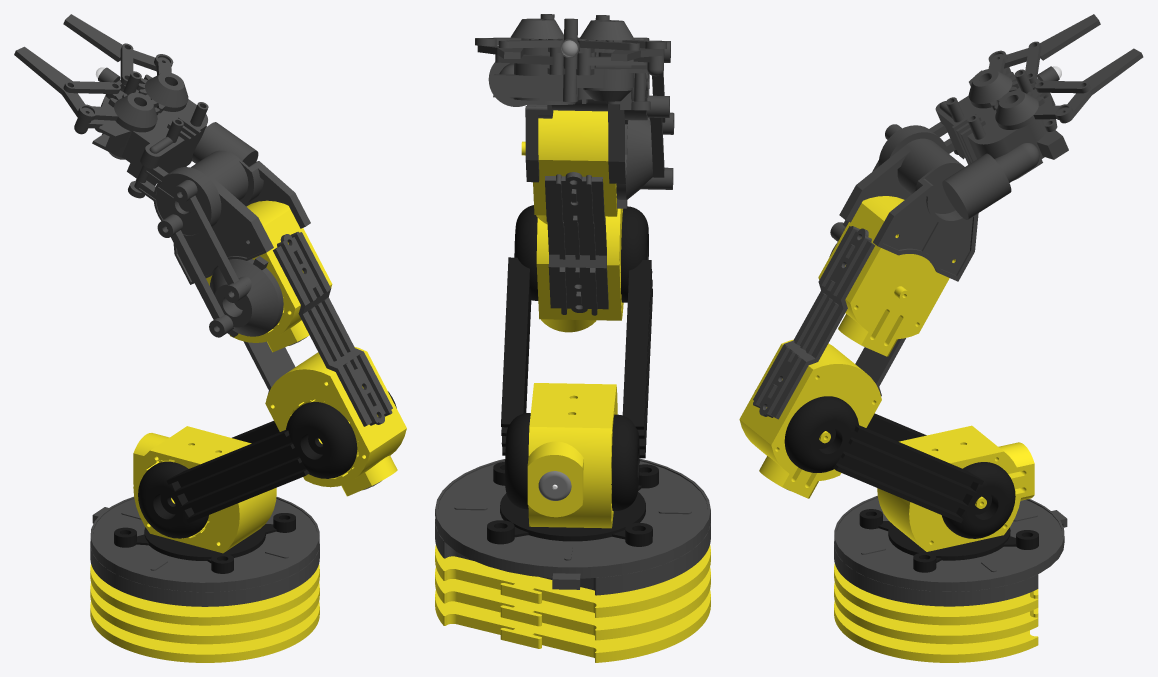
The model's file is robotic-arm-1.dae.
The picture shows the model from 3 angles, left to right: view 1: azimuth 30°, elevation 25°; view 2: azimuth 150°, elevation 25°; view 3: azimuth 270°, elevation 25°; orthographic projection. The views are drawn at different scales.
Parts seen in each view (by area): view 1: motor (×3), Pieza1, base motor 4 (×3), base motor 2, Pieza2 (×2), Pieza final, pieza 6, Pieza4 (×2), Pieza3, base motor 3, Pieza 7, base motor Z (+5 smaller); view 2: motor (×3), base motor 4 (×3), Pieza1 (×2), base motor 2, Pieza2, Pieza final, base motor Z, pieza 6, base motor 3, Pieza4 (×2), Pieza3, Pieza14 (×2) (+8 smaller); view 3: motor (×3), Pieza1 (×2), base motor 4 (×3), base motor 2, pieza 6, Pieza final, Pieza2 (×2), base motor Z, base motor 3, Simetr_aPieza11, Pieza11, Pieza13 (+3 smaller).
Part boxes in pixels (left/top/right/bottom): motor (×3): left=133, top=200, right=406, bottom=553; Pieza1: left=138, top=402, right=357, bottom=538; base motor 4 (×3): left=90, top=564, right=319, bottom=662; base motor 2: left=90, top=496, right=319, bottom=592; Pieza2 (×2): left=243, top=231, right=392, bottom=426; Pieza final: left=92, top=67, right=258, bottom=198; pieza 6: left=173, top=150, right=310, bottom=284; Pieza4 (×2): left=157, top=180, right=247, bottom=337; Pieza3: left=210, top=256, right=283, bottom=337; base motor 3: left=90, top=544, right=319, bottom=606; Pieza 7: left=134, top=165, right=221, bottom=237; base motor Z: left=114, top=513, right=295, bottom=573; motor (×3): left=521, top=110, right=623, bottom=528; base motor 4 (×3): left=435, top=545, right=710, bottom=662; Pieza1 (×2): left=501, top=205, right=652, bottom=510; base motor 2: left=435, top=458, right=710, bottom=589; Pieza2: left=545, top=172, right=608, bottom=315; Pieza final: left=488, top=14, right=650, bottom=110; base motor Z: left=487, top=462, right=658, bottom=546; pieza 6: left=525, top=99, right=628, bottom=183; base motor 3: left=435, top=519, right=710, bottom=595; Pieza4 (×2): left=647, top=40, right=674, bottom=189; Pieza3: left=616, top=117, right=653, bottom=208; Pieza14 (×2): left=495, top=52, right=647, bottom=69; motor (×3): left=739, top=196, right=1034, bottom=551; Pieza1 (×2): left=755, top=390, right=1015, bottom=538; base motor 4 (×3): left=834, top=563, right=1038, bottom=662; base motor 2: left=834, top=496, right=1067, bottom=591; pieza 6: left=839, top=138, right=978, bottom=281; Pieza final: left=935, top=66, right=1068, bottom=219; Pieza2 (×2): left=753, top=226, right=905, bottom=419; base motor Z: left=859, top=509, right=1038, bottom=572; base motor 3: left=834, top=541, right=1038, bottom=606; Simetr_aPieza11: left=994, top=90, right=1073, bottom=129; Pieza11: left=968, top=50, right=1019, bottom=110; Pieza13: left=1004, top=14, right=1100, bottom=68.
Size of the model in its own units: 0.1186 by 0.1752 by 0.2646.
